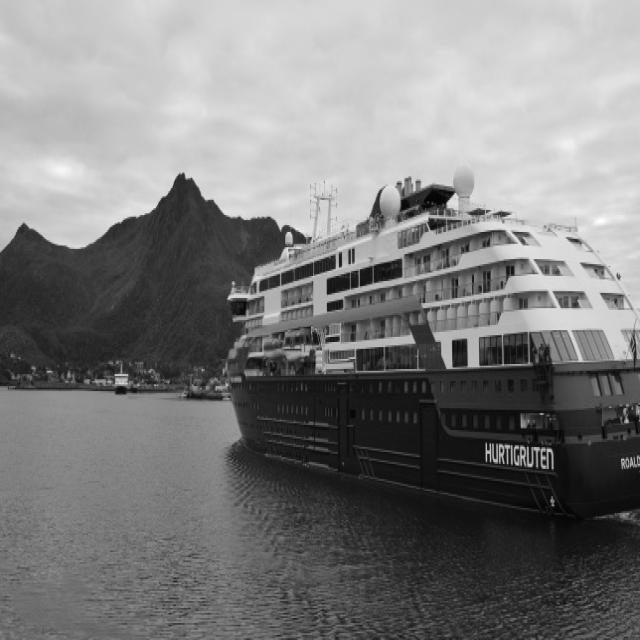cruises: (221, 165, 640, 524)
